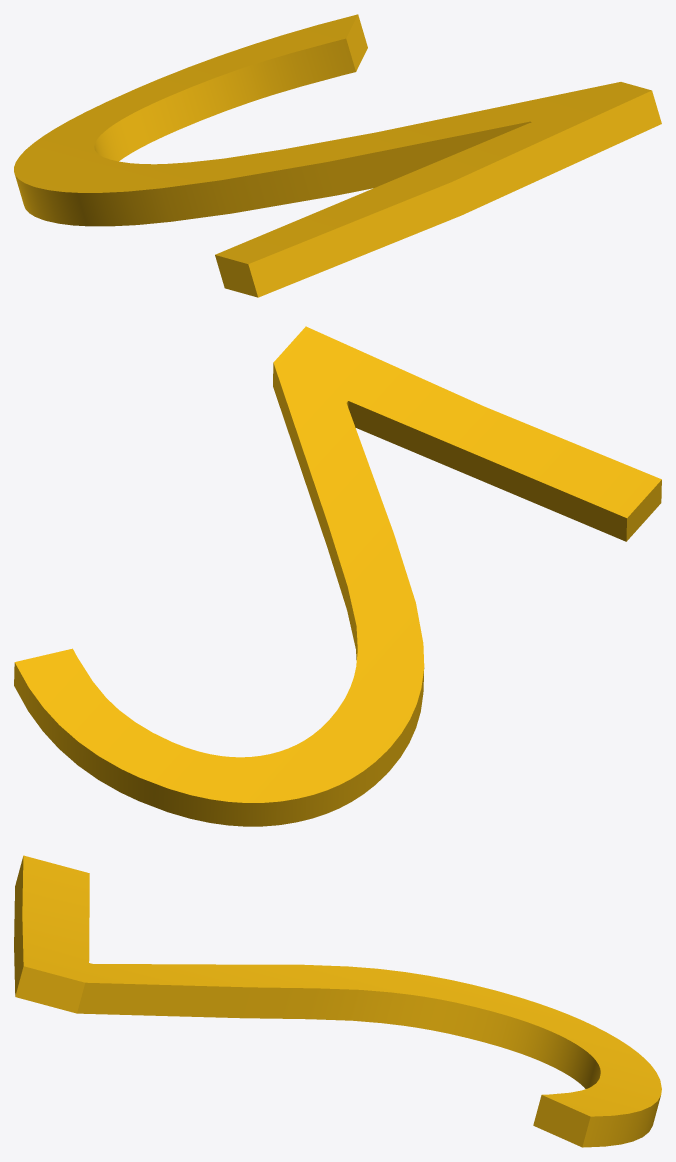
Rendered from Number_2.gltf.
3 views of the same model, one above another, from view 1: azimuth 30°, elevation 25°; view 2: azimuth 150°, elevation 25°; view 3: azimuth 270°, elevation 25° (orthographic). The views are drawn at different scales.
Visible parts, largest first — view 1: Sub_8_Cell_3_1_Number_2; view 2: Sub_8_Cell_3_1_Number_2; view 3: Sub_8_Cell_3_1_Number_2.
Part boxes in pixels (bbox=[...]): Sub_8_Cell_3_1_Number_2: bbox=[14, 14, 661, 297]; Sub_8_Cell_3_1_Number_2: bbox=[14, 326, 661, 826]; Sub_8_Cell_3_1_Number_2: bbox=[14, 855, 661, 1147].
Bounding box in the file's own units: 0.0172 × 0.00997 × 0.0249.
